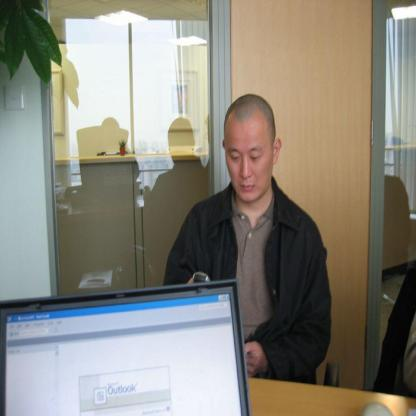board: (0, 279, 266, 416)
